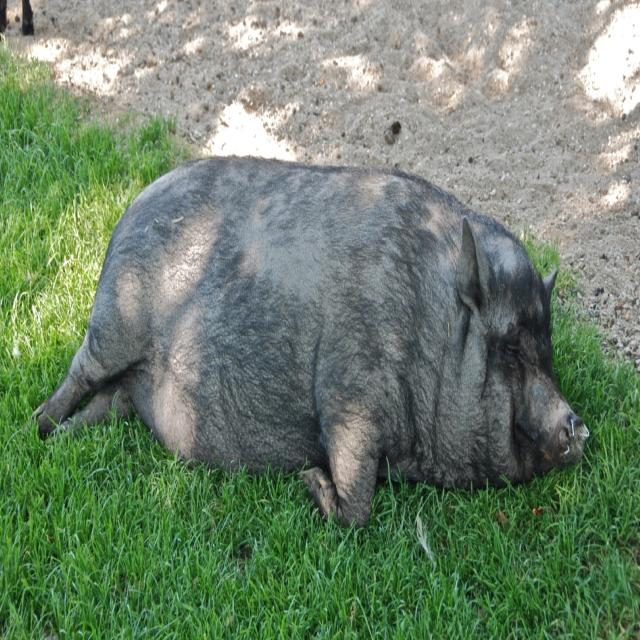pig: (34, 156, 594, 532)
